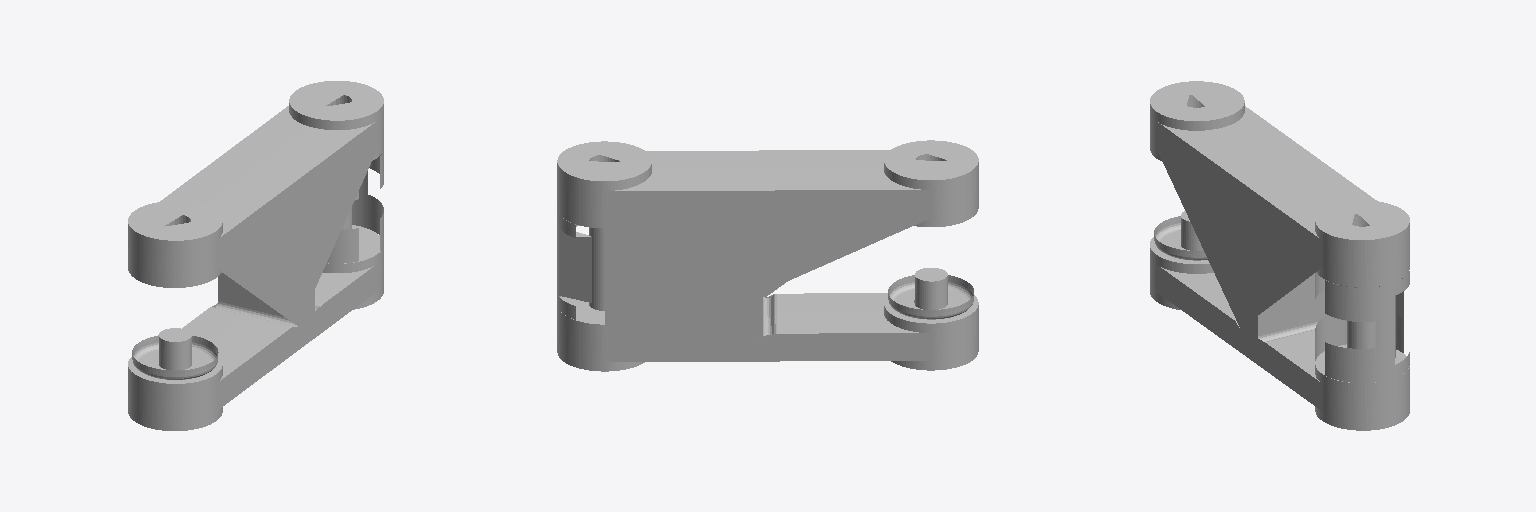
The model's file is gripper_right_inner.obj.
The picture shows the model from 3 angles: view 1: azimuth 30°, elevation 25°; view 2: azimuth 150°, elevation 25°; view 3: azimuth 270°, elevation 25°; orthographic projection.
Visible parts, largest first — view 1: Mesh1 Gripper_right_inner1 Model, Mesh5 Gripper_right_inner1 Model, Mesh4 Gripper_right_inner1 Model; view 2: Mesh1 Gripper_right_inner1 Model, Mesh5 Gripper_right_inner1 Model, Mesh2 Gripper_right_inner1 Model; view 3: Mesh1 Gripper_right_inner1 Model, Mesh5 Gripper_right_inner1 Model, Mesh4 Gripper_right_inner1 Model, Mesh2 Gripper_right_inner1 Model.
Boxes of the visible parts, <box> form: Mesh1 Gripper_right_inner1 Model: <box>128,81,383,430</box>; Mesh5 Gripper_right_inner1 Model: <box>352,151,383,250</box>; Mesh4 Gripper_right_inner1 Model: <box>327,228,358,263</box>; Mesh1 Gripper_right_inner1 Model: <box>557,140,978,371</box>; Mesh5 Gripper_right_inner1 Model: <box>557,210,591,319</box>; Mesh2 Gripper_right_inner1 Model: <box>589,227,604,310</box>; Mesh1 Gripper_right_inner1 Model: <box>1150,81,1409,430</box>; Mesh5 Gripper_right_inner1 Model: <box>1325,271,1409,382</box>; Mesh4 Gripper_right_inner1 Model: <box>1315,315,1401,360</box>; Mesh2 Gripper_right_inner1 Model: <box>1347,286,1377,348</box>.
Bounding box in the file's own units: 0.0363 × 0.0203 × 0.0251.